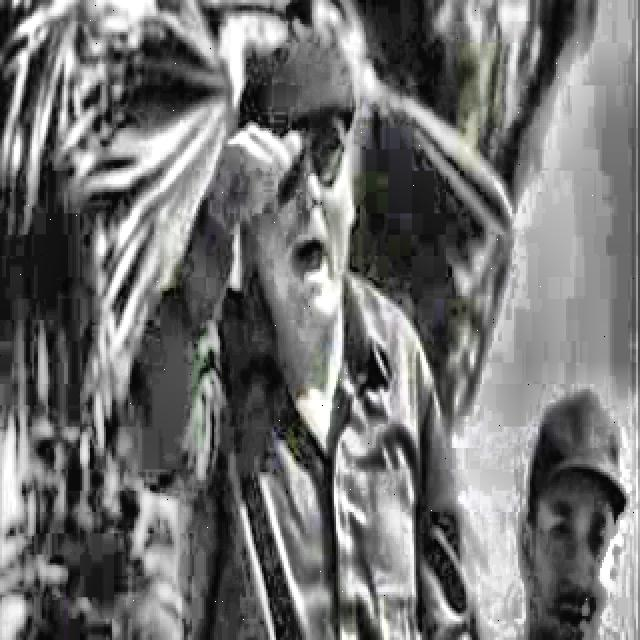T: (122, 28, 486, 640)
